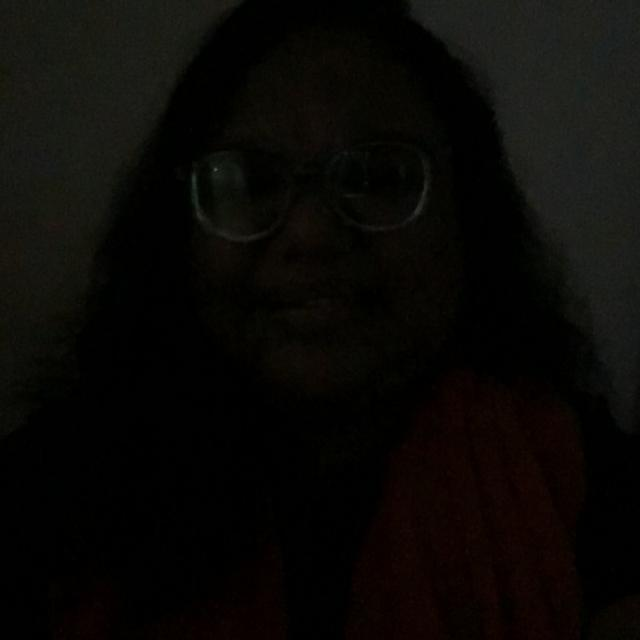Happy: (141, 85, 519, 426)
